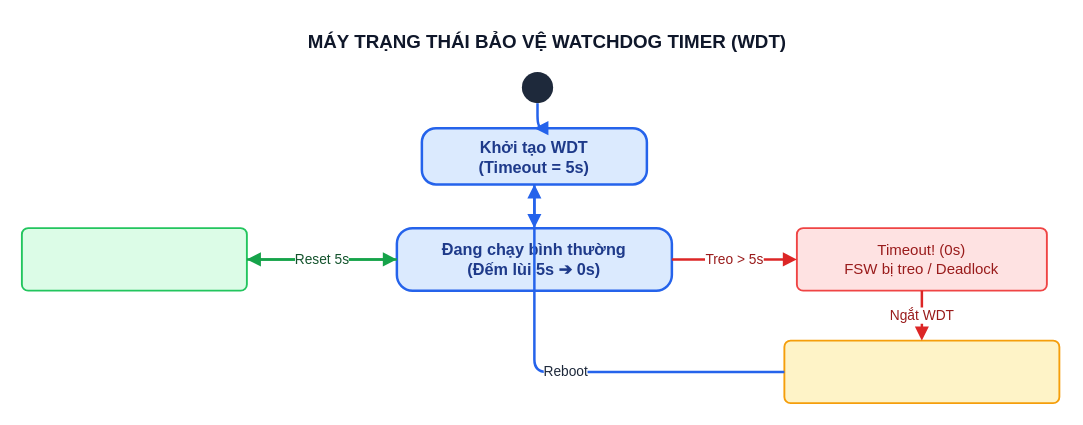
Image size: 1083x425. Some labels were removed from this diagram. The centre of each missing label's shape, as x and y in pixels:
"Kích hoạt Phần cứng Reset Khởi động lại về Safe Mode" belongs at [921,371].
"Nuôi chó (Feed WDT) Nạp lại 5s" belongs at [133,259].
